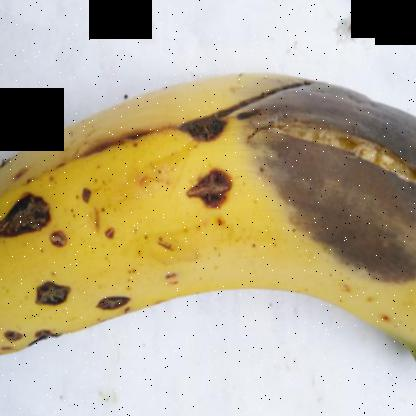rotten: (244, 76, 415, 308), (0, 179, 58, 264), (7, 326, 82, 384), (167, 99, 240, 157), (178, 164, 242, 223), (91, 280, 143, 335), (30, 270, 81, 317)
